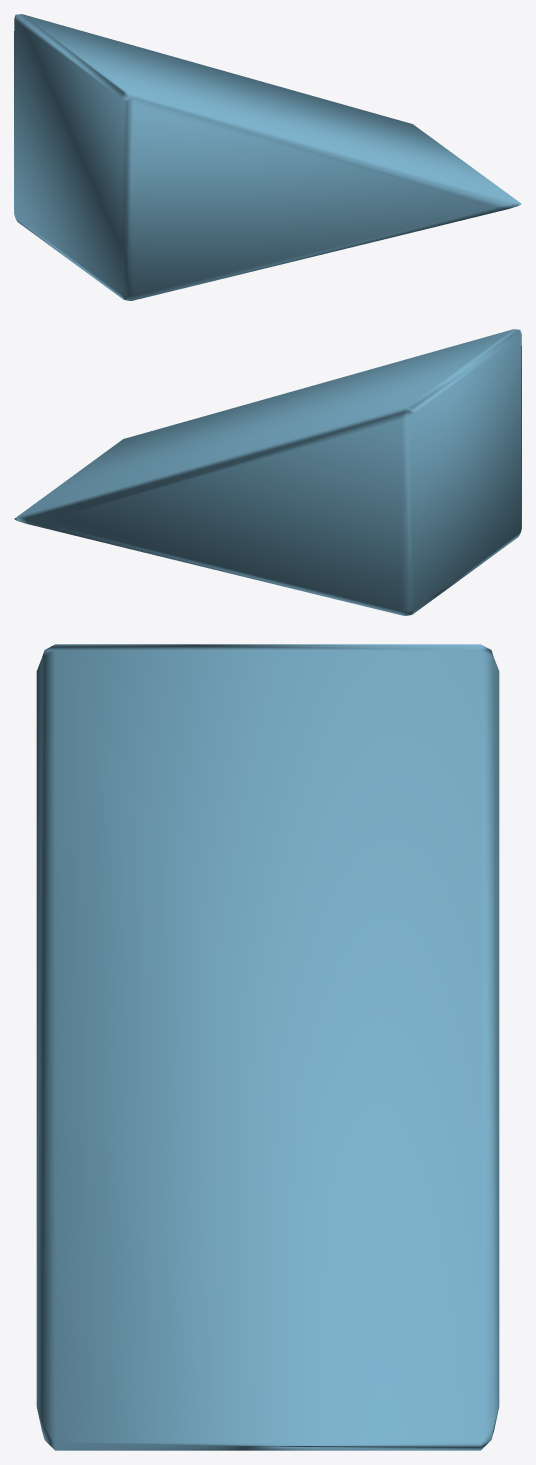
File: S04_WEDGE.fbx
3 views of the same model, one above another, from view 1: azimuth 30°, elevation 25°; view 2: azimuth 150°, elevation 25°; view 3: azimuth 270°, elevation 25° (orthographic). The views are drawn at different scales.
Parts seen in each view (by area): view 1: S04_WEDGE; view 2: S04_WEDGE; view 3: S04_WEDGE.
Boxes of the visible parts, x1,y1,x2,y2 form: S04_WEDGE: (14,14,521,300); S04_WEDGE: (14,329,521,615); S04_WEDGE: (36,644,499,1450).
Size of the model in its own units: 200 by 100 by 100.
